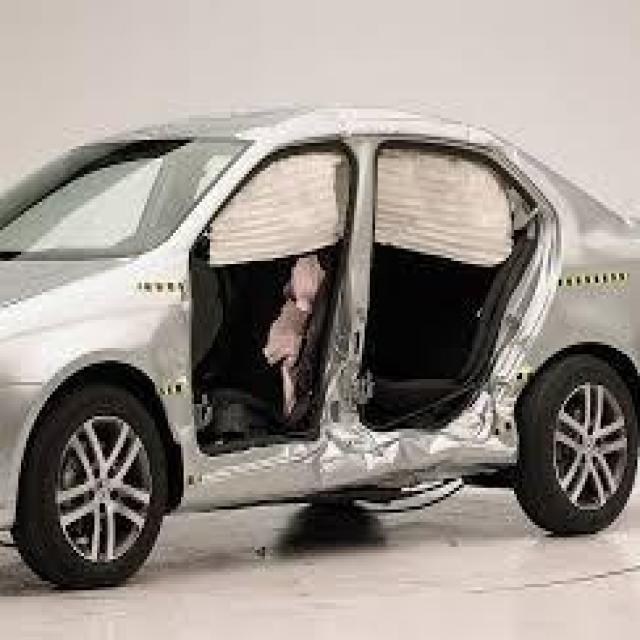damaged: (178, 124, 551, 466)
